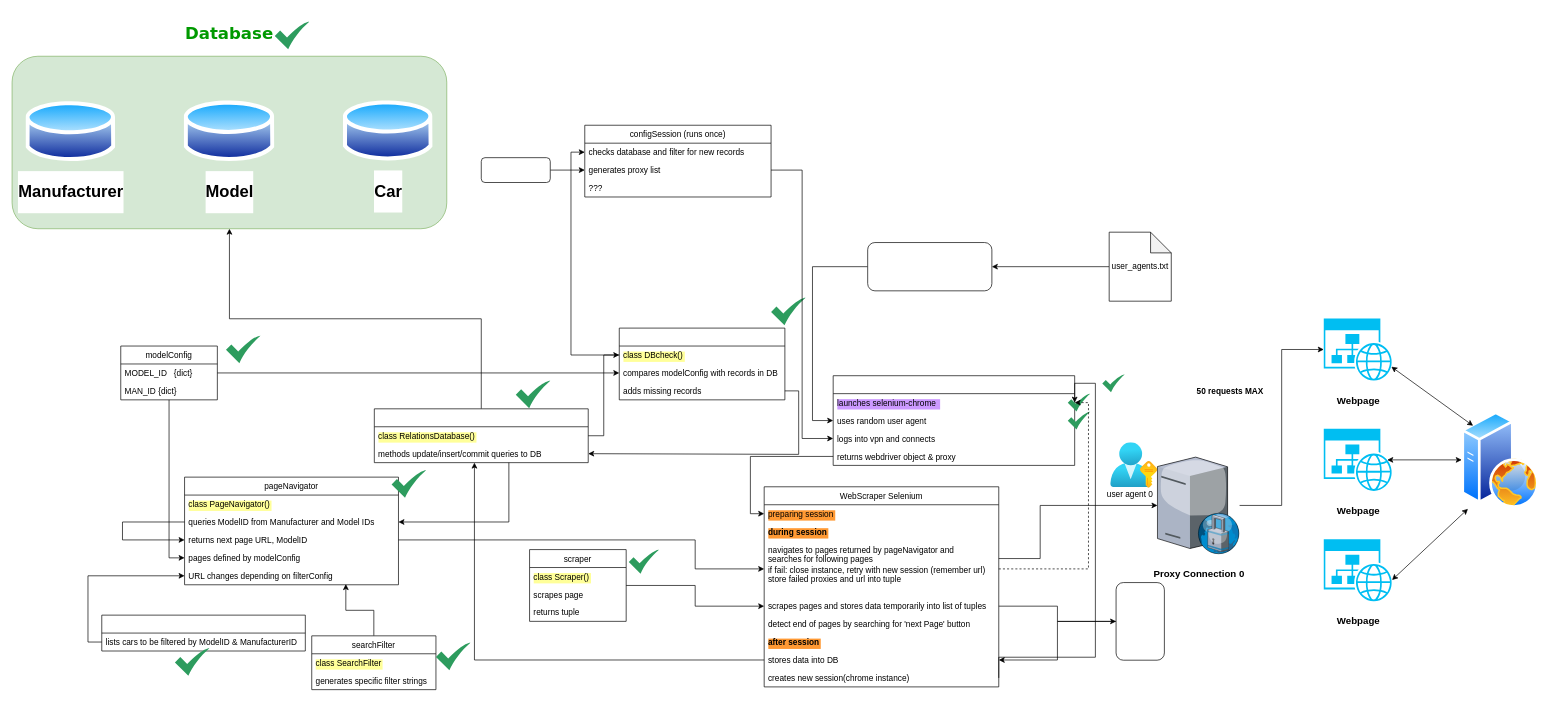
Image size: 1551x703. Some labels were removed from this diagram. Each missing label, with the box of its shape:
[(CarID), (ModelID), (MobileID), ...]: (1115, 582, 1164, 660)
createDB: (374, 408, 588, 463)
filterConfig: (101, 614, 305, 651)
prepareSession: (832, 375, 1075, 465)
random user agent <random.choice(useragentlist)>: (867, 242, 992, 291)
updateDB: (619, 327, 785, 400)
VPN-Proxy [list]: (481, 157, 550, 183)
Webserver: (1461, 411, 1539, 508)
